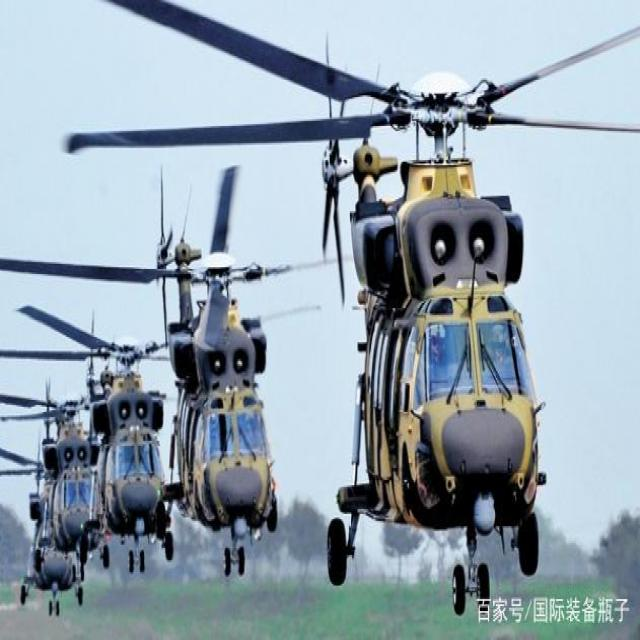MIL_HELO: (62, 0, 640, 608), (0, 179, 341, 580), (0, 267, 185, 585), (0, 362, 101, 571)
